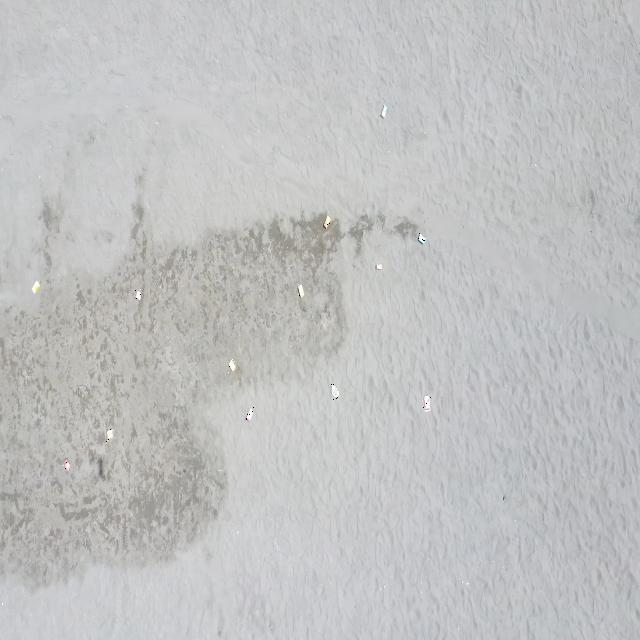Garbage: (329, 383, 339, 399), (244, 407, 253, 420), (423, 395, 430, 411), (227, 359, 236, 371), (323, 215, 332, 227), (380, 103, 387, 118), (417, 232, 426, 243), (32, 280, 40, 292), (296, 283, 303, 296), (105, 427, 111, 442), (64, 457, 70, 470), (135, 289, 140, 300), (375, 263, 381, 268)
